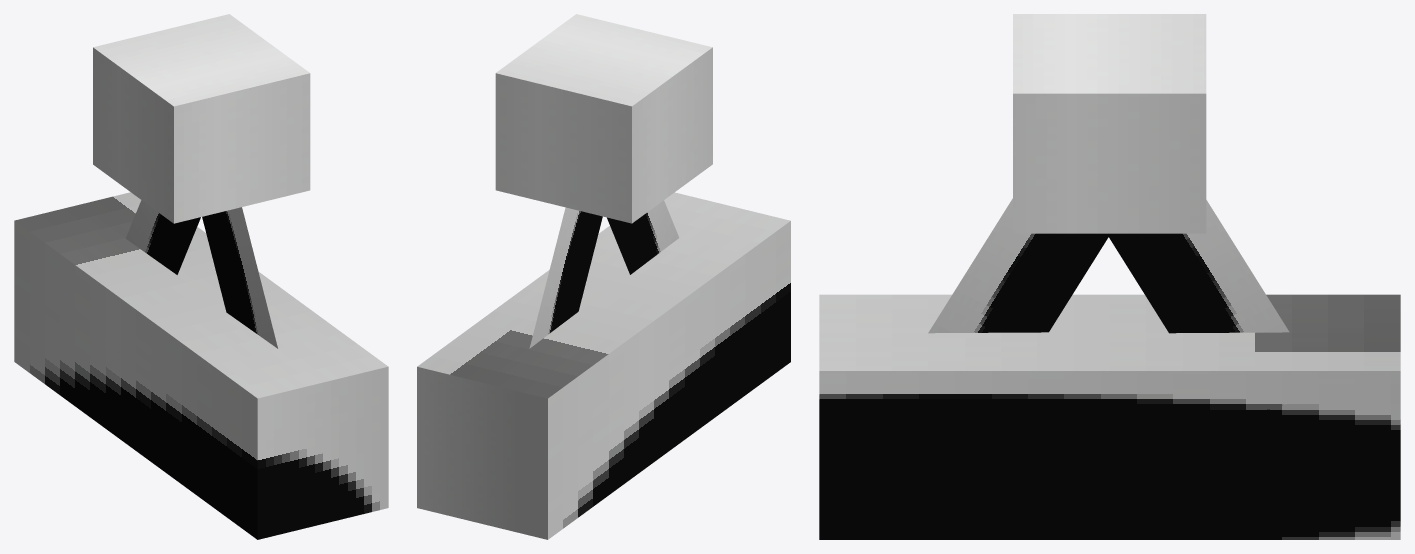
The model's file is camera.obj.
3 views of the same model, side by side, from view 1: azimuth 30°, elevation 25°; view 2: azimuth 150°, elevation 25°; view 3: azimuth 270°, elevation 25° (orthographic). The views are drawn at different scales.
Parts seen in each view (by area): view 1: Cube, Cube.001, Plane, Plane.001; view 2: Cube, Cube.001, Plane.001, Plane; view 3: Cube, Cube.001, Plane.001, Plane.
Boxes of the visible parts, x1,y1,x2,y2 form: Cube: (14, 192, 388, 539); Cube.001: (93, 14, 310, 223); Plane: (202, 207, 277, 348); Plane.001: (125, 200, 200, 274); Cube: (417, 192, 790, 539); Cube.001: (495, 14, 712, 223); Plane.001: (529, 207, 602, 348); Plane: (607, 200, 679, 274); Cube: (819, 294, 1400, 539); Cube.001: (1013, 14, 1206, 233); Plane.001: (1107, 200, 1289, 333); Plane: (928, 198, 1108, 333).
Bounding box in the file's own units: 0.2818 × 0.7393 × 0.8691.
1 material, 1 textured.
